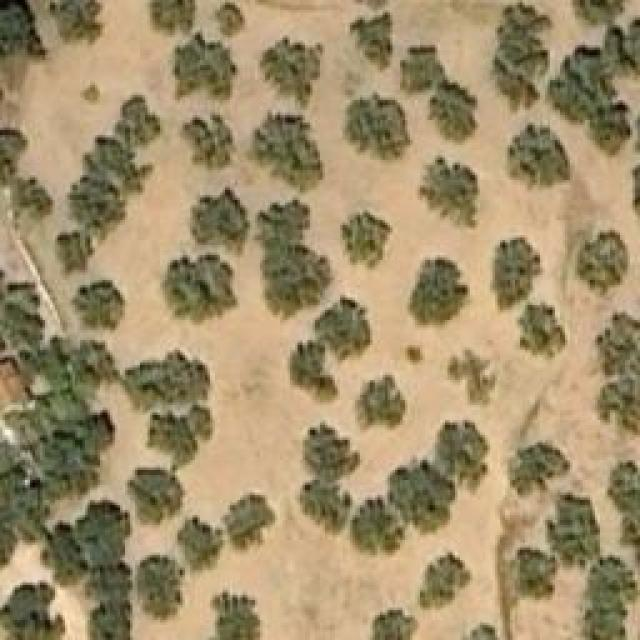Tree: (253, 200, 333, 320), (493, 0, 553, 110), (248, 108, 323, 193), (125, 350, 213, 413), (575, 555, 638, 640), (163, 255, 236, 323), (260, 33, 323, 108), (408, 258, 471, 331), (390, 460, 453, 533), (488, 237, 543, 315), (345, 95, 408, 163), (188, 188, 253, 253), (418, 158, 478, 228), (175, 35, 238, 100), (508, 123, 571, 188), (607, 460, 640, 575), (0, 582, 65, 640), (150, 407, 215, 465), (78, 500, 133, 568), (282, 340, 340, 403), (83, 135, 146, 193), (418, 548, 473, 613), (550, 493, 600, 563), (305, 420, 360, 483), (508, 443, 571, 498), (575, 233, 628, 298), (347, 375, 405, 433), (180, 113, 235, 173), (438, 418, 493, 478), (72, 278, 130, 333), (125, 468, 183, 523), (220, 490, 273, 548), (315, 303, 370, 358), (68, 175, 123, 230), (137, 555, 185, 618), (343, 210, 393, 268), (110, 90, 160, 148), (513, 540, 558, 603), (447, 347, 495, 405), (300, 480, 350, 535), (353, 498, 403, 553), (430, 83, 480, 138), (208, 590, 261, 640), (37, 0, 100, 42), (517, 303, 565, 358), (595, 312, 640, 370), (350, 13, 393, 73), (3, 175, 58, 220), (0, 295, 45, 350), (177, 520, 225, 570), (590, 100, 630, 158), (598, 378, 638, 428), (400, 45, 443, 88), (363, 610, 418, 640), (55, 230, 93, 273), (150, 0, 198, 30), (215, 3, 243, 36), (405, 345, 423, 363)
